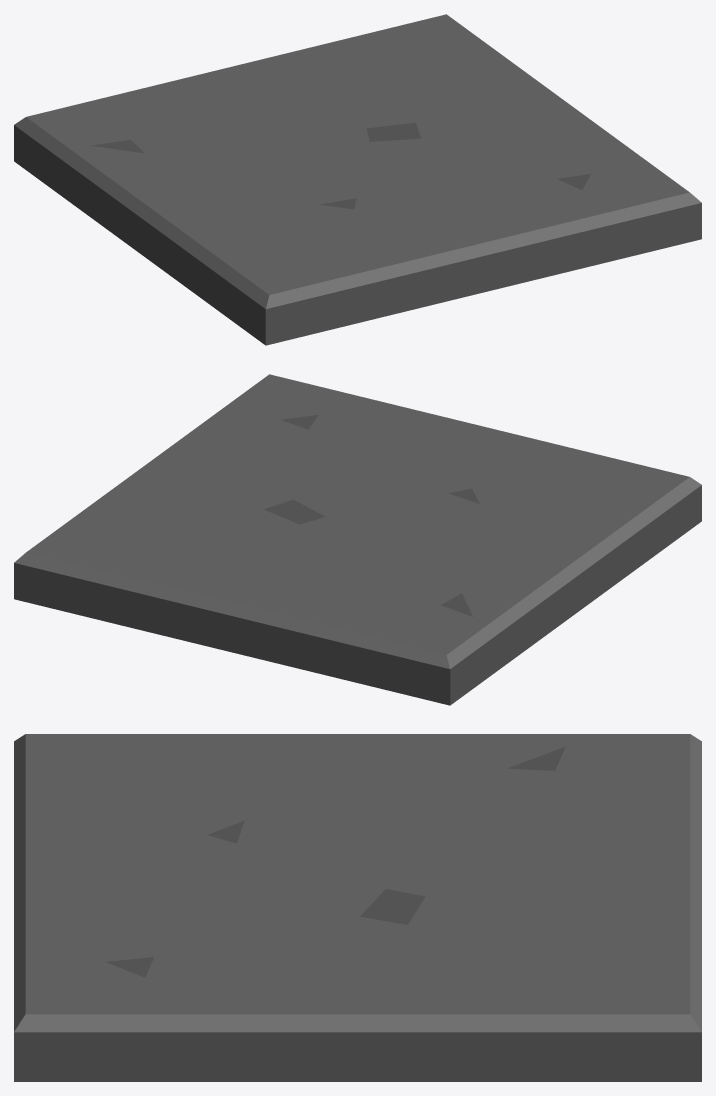
The model's file is ConcrateSlabs_B_2_3.fbx.
The picture shows the model from 3 angles, top to bottom: view 1: azimuth 30°, elevation 25°; view 2: azimuth 150°, elevation 25°; view 3: azimuth 270°, elevation 25°; orthographic projection. The views are drawn at different scales.
Parts seen in each view (by area): view 1: ConcrateSlabs_B_2_3; view 2: ConcrateSlabs_B_2_3; view 3: ConcrateSlabs_B_2_3.
Boxes of the visible parts, bbox=[...] form: ConcrateSlabs_B_2_3: bbox=[14, 14, 701, 345]; ConcrateSlabs_B_2_3: bbox=[14, 374, 701, 705]; ConcrateSlabs_B_2_3: bbox=[14, 734, 701, 1081].
Size of the model in its own units: 400 by 40 by 400.
